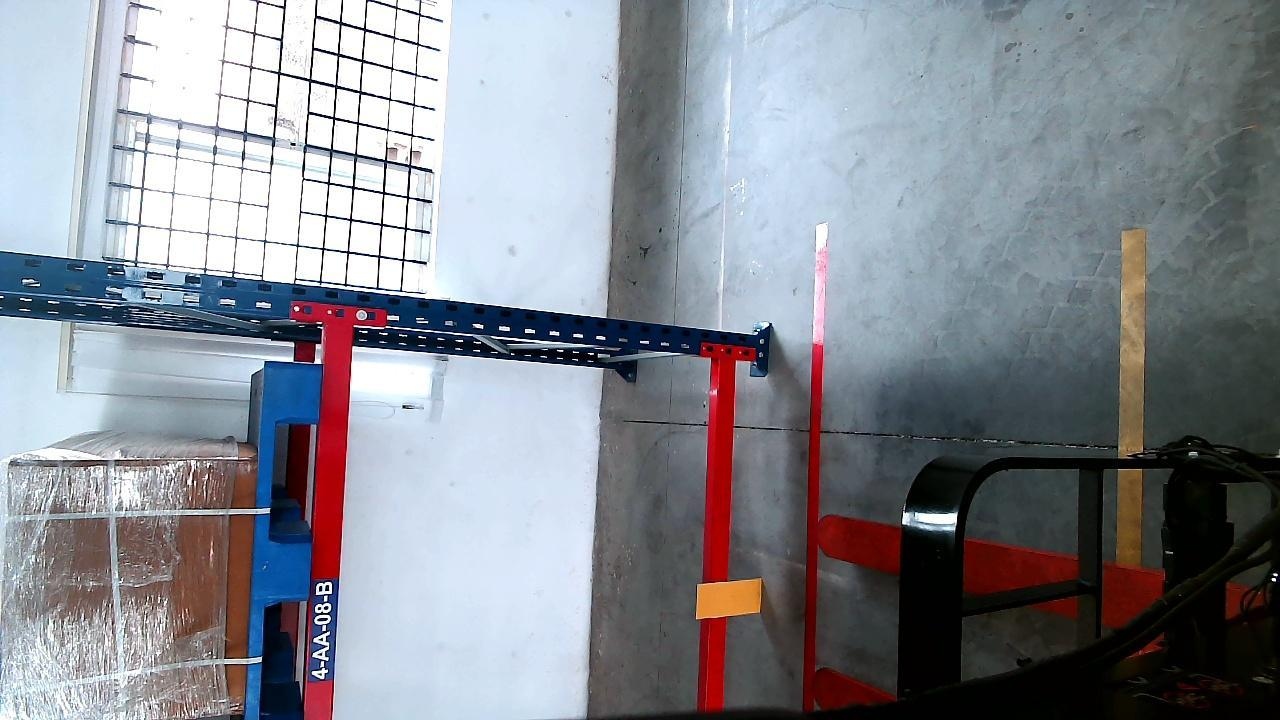red_line: (799, 221, 831, 720)
yellow_line: (1117, 227, 1148, 565)
